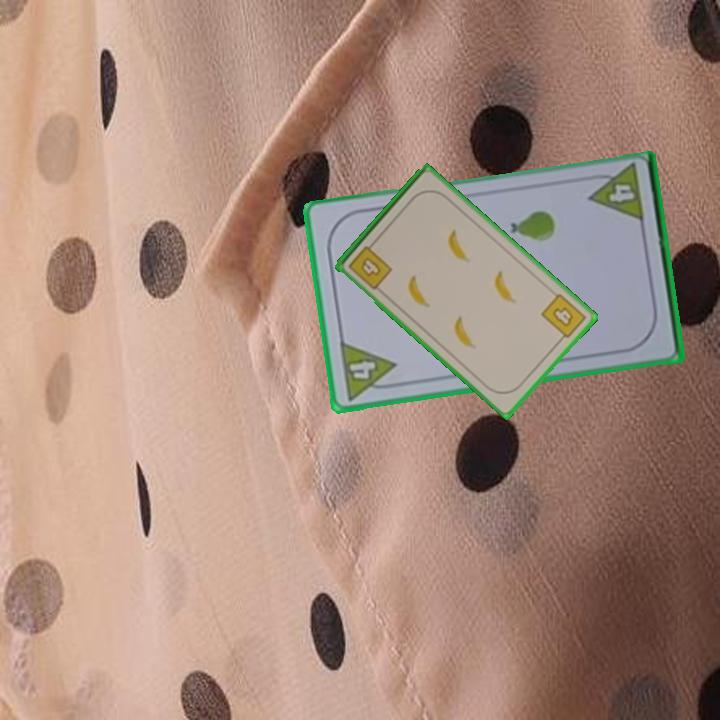4b: (537, 290, 589, 345), (345, 238, 395, 292)
4p: (336, 338, 401, 403), (583, 162, 647, 227)
